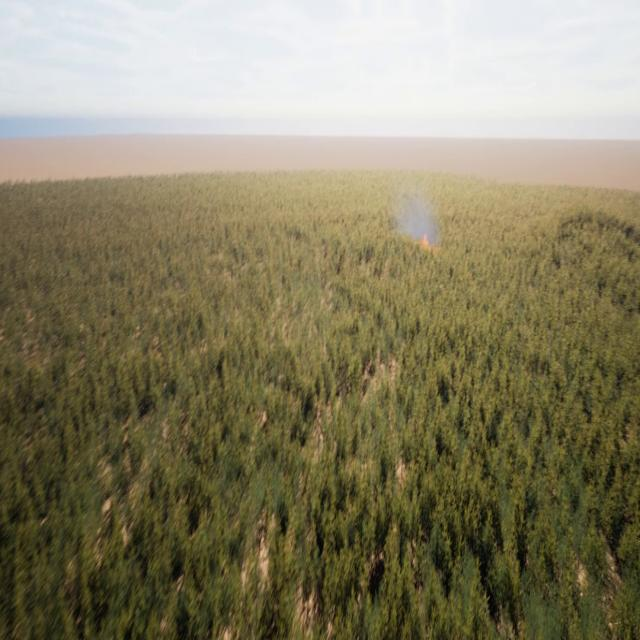fire: (420, 228, 433, 244)
smoke: (395, 184, 442, 251)
